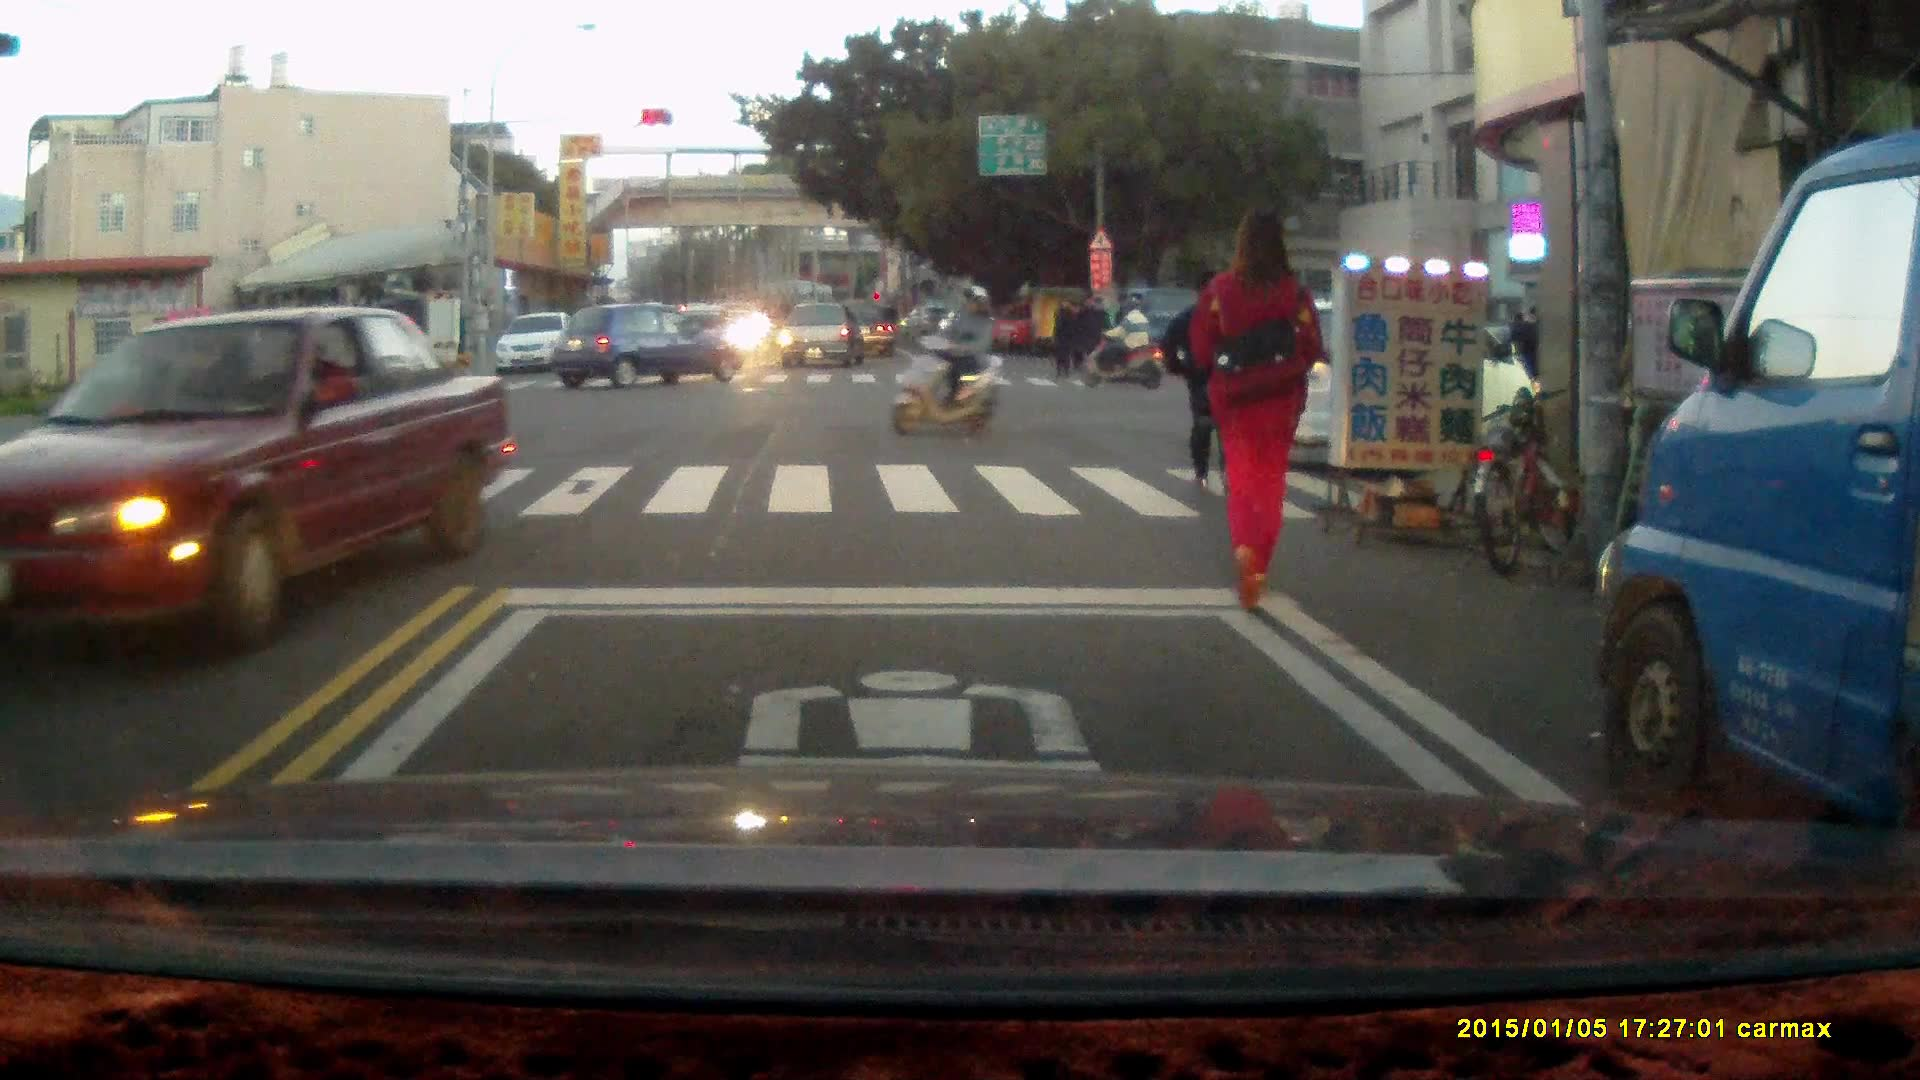pedestrian: (1187, 207, 1327, 603), (1163, 259, 1253, 497), (1512, 300, 1547, 409), (1073, 290, 1105, 381), (1049, 292, 1080, 382)
rider: (888, 287, 1006, 437), (1081, 299, 1167, 387)
vehicle: (1598, 132, 1920, 874), (1, 307, 524, 669), (1233, 296, 1533, 459), (556, 305, 749, 392), (780, 300, 868, 376), (498, 313, 586, 377), (830, 302, 902, 362)
